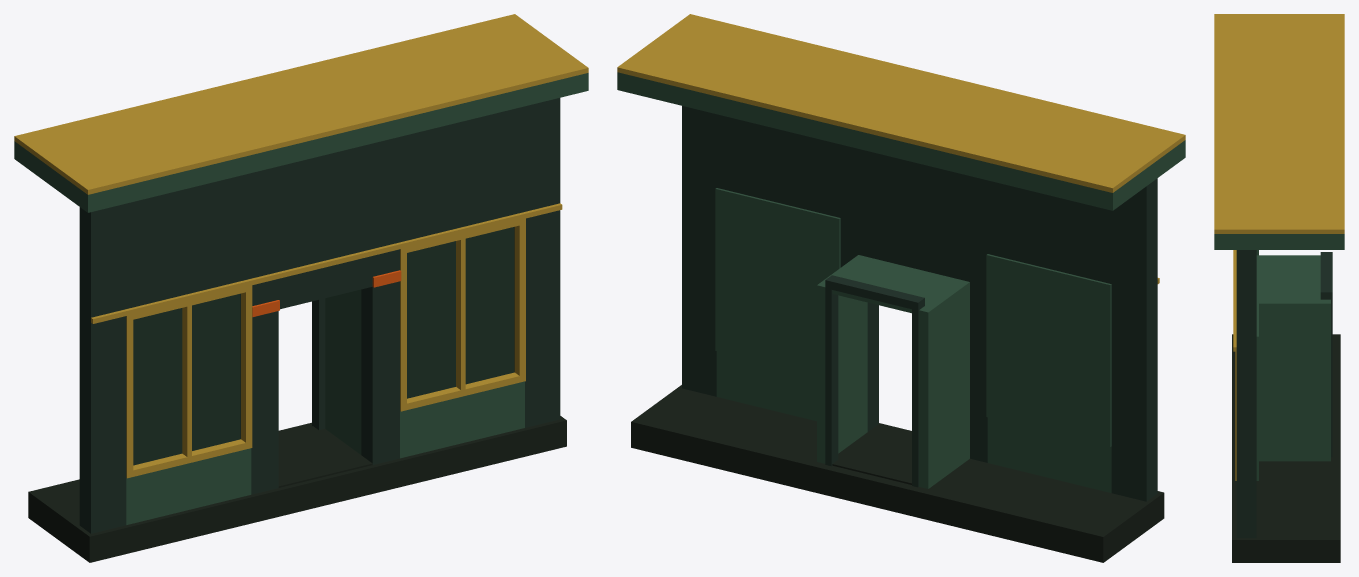
Rendered from facade.glb.
3 renders of one model, left to right at view 1: azimuth 30°, elevation 25°; view 2: azimuth 150°, elevation 25°; view 3: azimuth 270°, elevation 25°, orthographic. The views are drawn at different scales.
Visible parts, largest first — view 1: cornice_lip, plinth, pier_left_outer, win_left_glass, win_right_glass, win_right_reveal, win_left_reveal, header_left, header_right, header_entry, pier_right_outer, cornice (+18 smaller); view 2: cornice_lip, plinth, win_left_reveal, win_right_reveal, pier_left_outer, cornice, header_entry, pier_right_outer, entry_wall_left, header_left, header_right, entry_wall_right (+9 smaller); view 3: cornice_lip, entry_wall_right, plinth, pier_right_outer, entry_soffit, cornice, doorwall_head, win_right_reveal, reveal_band, doorwall_right, entry_wall_left, win_right_frame_jamb_b.
Part boxes in pixels (<box>): cornice_lip: <box>14,14,588,194</box>; plinth: <box>28,416,566,562</box>; pier_left_outer: <box>79,203,126,533</box>; win_left_glass: <box>133,293,240,465</box>; win_right_glass: <box>407,227,514,398</box>; win_right_reveal: <box>407,227,514,398</box>; win_left_reveal: <box>133,294,240,464</box>; header_left: <box>126,173,251,308</box>; header_right: <box>400,106,524,242</box>; header_entry: <box>278,143,372,309</box>; pier_right_outer: <box>514,98,560,427</box>; cornice: <box>14,73,588,212</box>; cornice_lip: <box>617,14,1185,192</box>; plinth: <box>631,385,1164,562</box>; win_left_reveal: <box>986,254,1111,446</box>; win_right_reveal: <box>715,188,840,375</box>; pier_left_outer: <box>1111,178,1157,501</box>; cornice: <box>617,72,1185,210</box>; header_entry: <box>867,151,960,279</box>; pier_right_outer: <box>682,106,716,396</box>; entry_wall_left: <box>919,280,969,488</box>; header_left: <box>987,180,1111,283</box>; header_right: <box>716,114,840,217</box>; entry_wall_right: <box>817,255,867,463</box>; cornice_lip: <box>1214,14,1344,233</box>; entry_wall_right: <box>1259,299,1330,461</box>; plinth: <box>1232,334,1340,562</box>; pier_right_outer: <box>1236,250,1256,538</box>; entry_soffit: <box>1256,259,1320,299</box>; cornice: <box>1214,234,1344,249</box>; doorwall_head: <box>1320,252,1332,299</box>; win_right_reveal: <box>1256,282,1258,480</box>; reveal_band: <box>1233,250,1236,351</box>; doorwall_right: <box>1320,296,1332,457</box>; entry_wall_left: <box>1256,255,1320,259</box>; win_right_frame_jamb_b: <box>1235,351,1236,479</box>.
Size of the model in its own units: 6.4 by 4.68 by 1.63.
